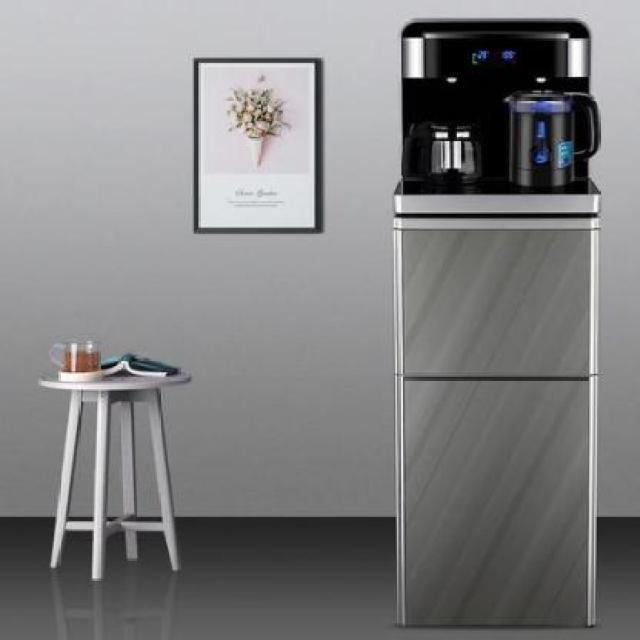cooler: (389, 12, 605, 633)
